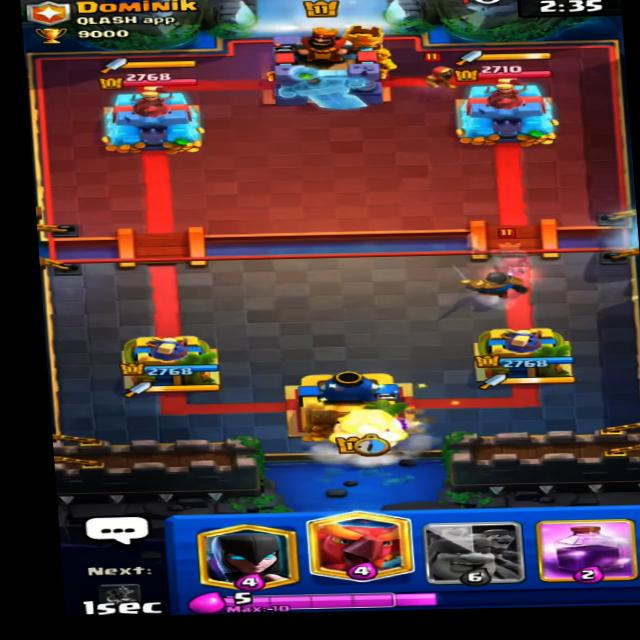royal-ghost: (466, 225, 531, 277)
wizard: (409, 51, 464, 93)
